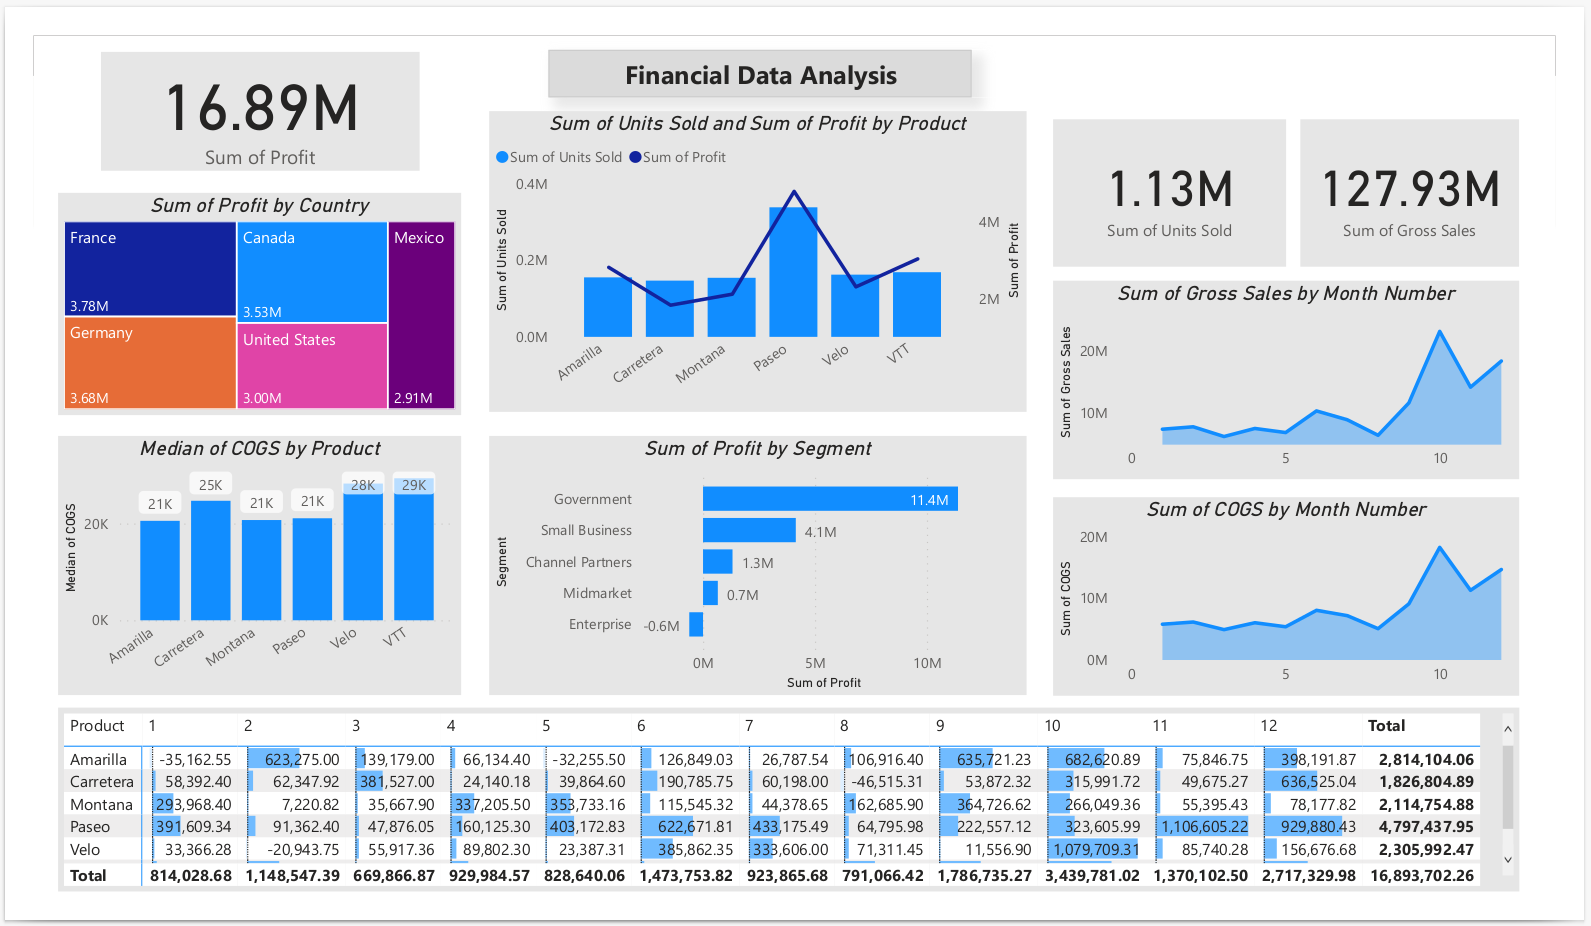

What the dashboard file says about the page in this screenshot:
{"tool":"powerbi","page":{"name":"Page 1","canvas":[1280,720],"ordinal":0},"visuals":[{"type":"textbox","box":[433,12,355.7,39.5],"z":0},{"type":"card","fields":{"Values":["Sum(financials.Profit)"]},"box":[56.7,13.7,268.1,99.7],"z":1000},{"type":"treemap","fields":{"Group":["financials.Country"],"Values":["Sum(financials.Profit)"]},"box":[20.6,132.3,338.5,187.3],"z":2000},{"type":"lineStackedColumnComboChart","fields":{"Category":["financials.Product"],"Y":["Median(financials.COGS)"]},"box":[20.6,336.8,338.5,218.2],"z":3000},{"type":"pivotTable","fields":{"Rows":["financials.Product"],"Columns":["Ref Table.Month Number"],"Values":["Sum(financials.Profit)"]},"box":[20.6,565.3,1228.6,154.7],"z":4000},{"type":"lineClusteredColumnComboChart","fields":{"Category":["financials.Product"],"Y":["Sum(financials.Units Sold)"],"Y2":["Sum(financials.Profit)"]},"box":[383.2,63.6,451.9,252.6],"z":5000},{"type":"clusteredBarChart","fields":{"Category":["financials.Segment"],"Y":["Sum(financials.Profit)"]},"box":[383.2,336.8,451.9,218.2],"z":6000},{"type":"card","fields":{"Values":["Sum(financials.Units Sold)"]},"box":[857.5,70.5,195.9,123.7],"z":7000},{"type":"card","fields":{"Values":["Sum(financials.Gross Sales)"]},"box":[1065.4,70.5,183.9,123.7],"z":8000},{"type":"areaChart","fields":{"Y":["Sum(financials.Gross Sales)"],"Category":["Ref Table.Month Number"]},"box":[857.5,206.2,391.8,166.7],"z":9000},{"type":"areaChart","fields":{"Category":["Ref Table.Month Number"],"Y":["Sum(financials.COGS)"]},"box":[857.5,388.4,391.8,166.7],"z":10000}]}

Visuals, with their boxes on the page's 1280x720 design canvas (x1, y1, x2, y2). These are canvas units, not pixel positions in the 1591x926 screenshot, which may show the page scaled, cropped or inside an application window:
textbox: bbox=[433, 12, 789, 52]
card - Sum(financials.Profit): bbox=[57, 14, 325, 113]
treemap - financials.Country x Sum(financials.Profit): bbox=[21, 132, 359, 320]
lineStackedColumnComboChart - financials.Product x Median(financials.COGS): bbox=[21, 337, 359, 555]
pivotTable - financials.Product x Ref Table.Month Number: bbox=[21, 565, 1249, 720]
lineClusteredColumnComboChart - financials.Product x Sum(financials.Units Sold): bbox=[383, 64, 835, 316]
clusteredBarChart - financials.Segment x Sum(financials.Profit): bbox=[383, 337, 835, 555]
card - Sum(financials.Units Sold): bbox=[858, 70, 1053, 194]
card - Sum(financials.Gross Sales): bbox=[1065, 70, 1249, 194]
areaChart - Sum(financials.Gross Sales) x Ref Table.Month Number: bbox=[858, 206, 1249, 373]
areaChart - Ref Table.Month Number x Sum(financials.COGS): bbox=[858, 388, 1249, 555]
